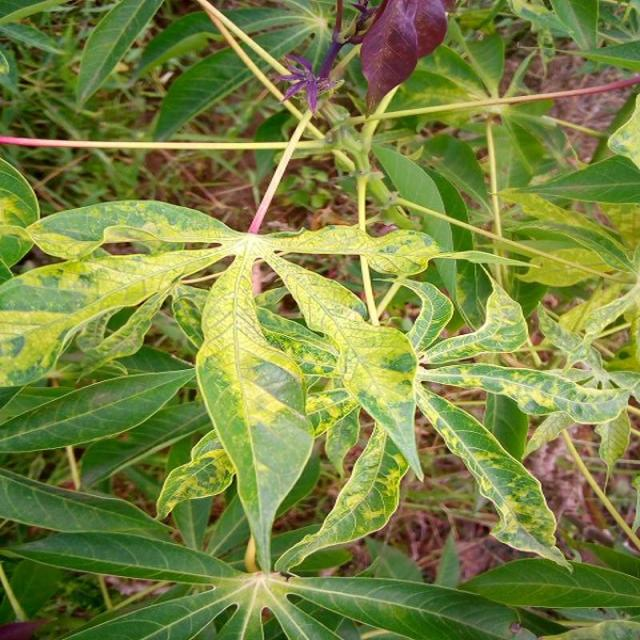Mosaico: (249, 336, 592, 580), (62, 171, 364, 441)
